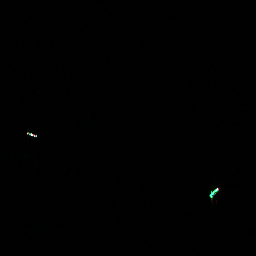ship: (207, 185, 221, 200), (24, 129, 39, 140)
